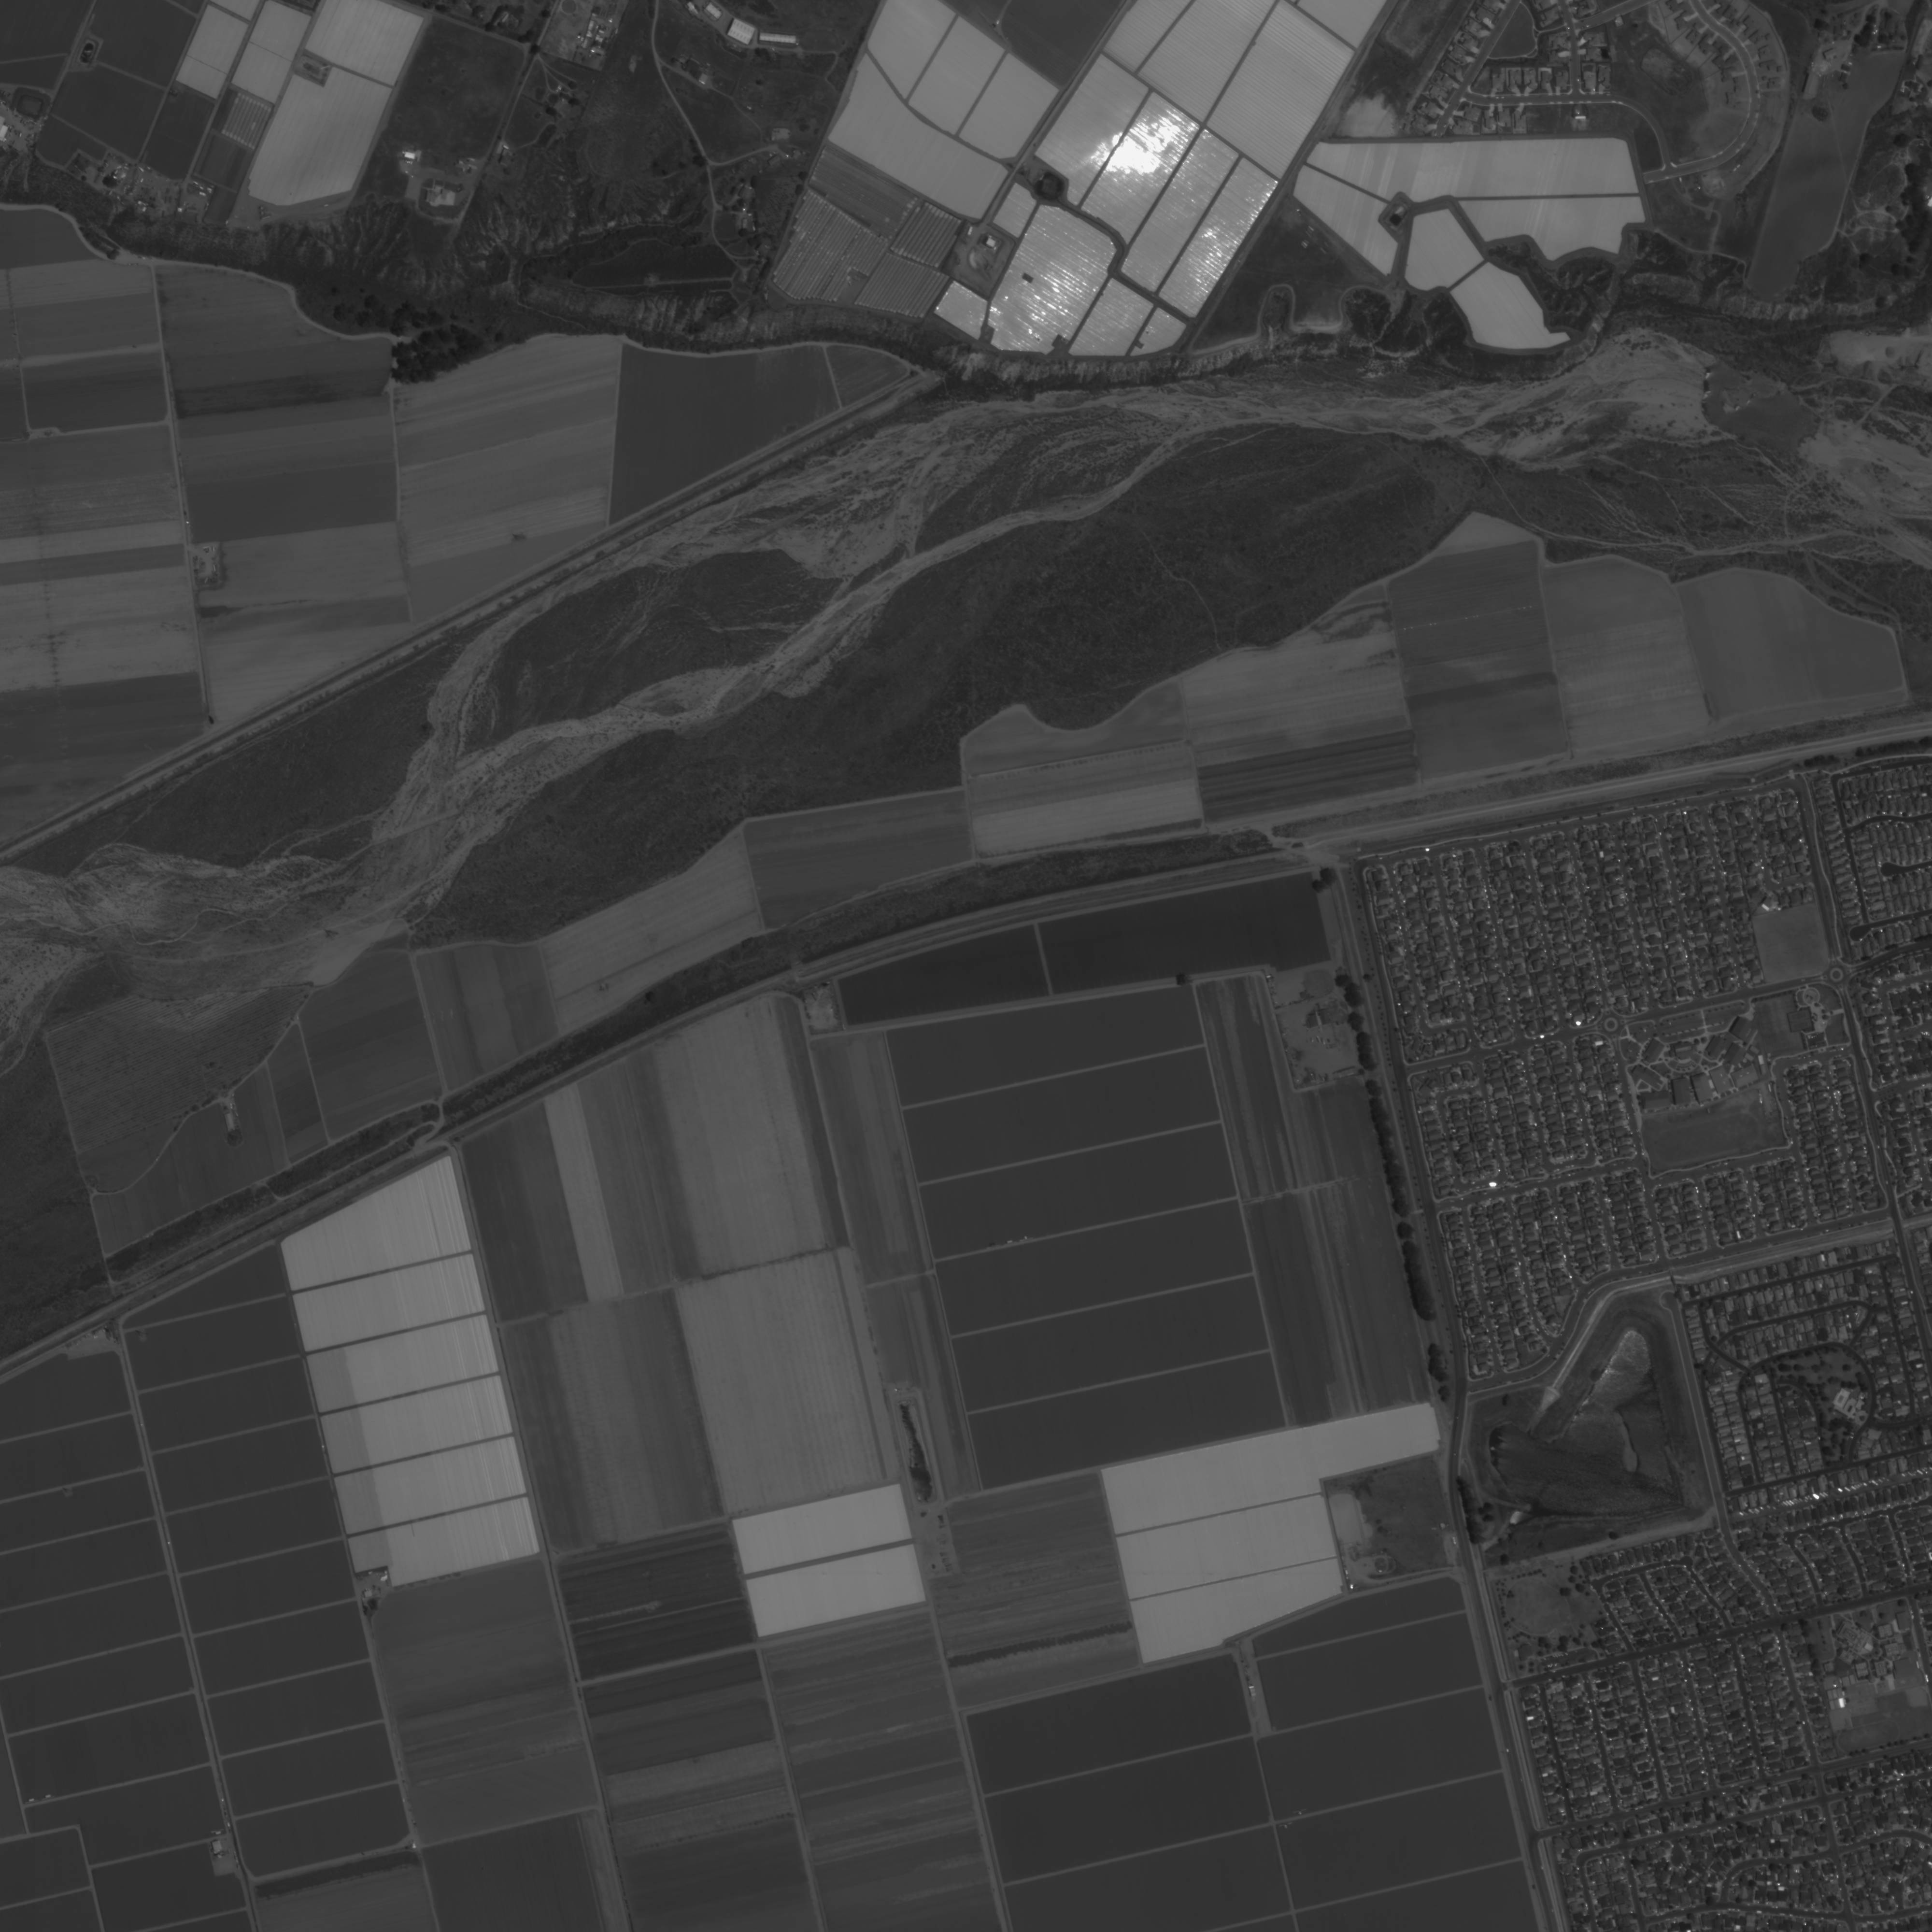ground track field: (1642, 1104, 1767, 1173), (1829, 1713, 1905, 1759)
roundabout: (1826, 964, 1847, 985), (1601, 1016, 1621, 1035)
